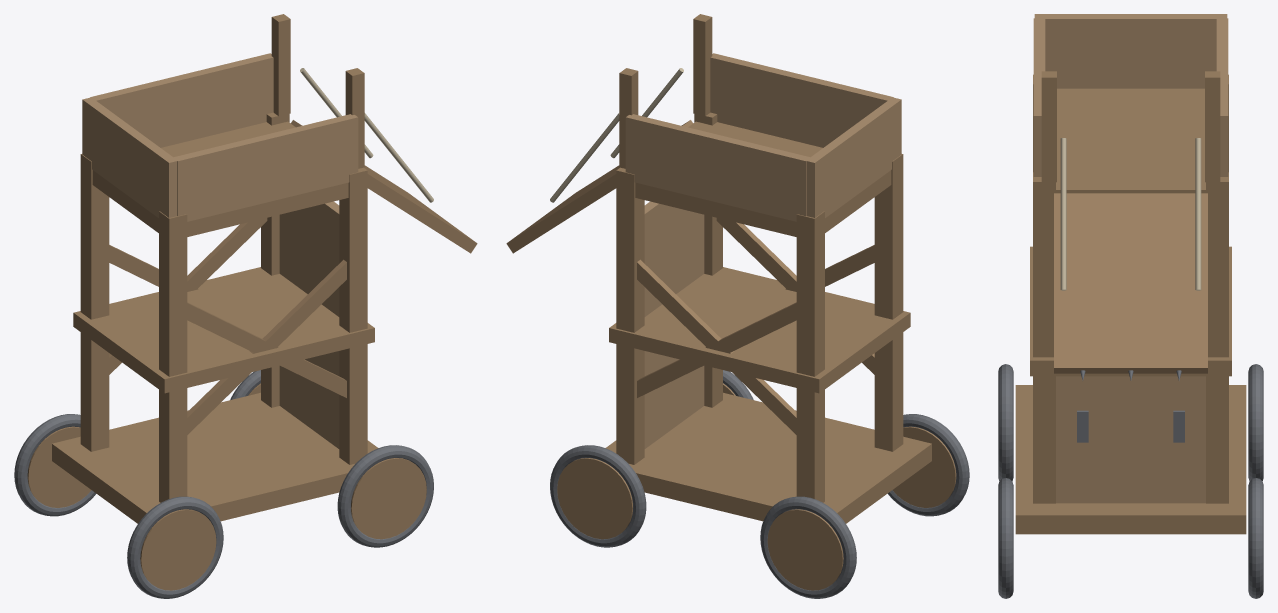
File: siege_tower.glb
3 renders of one model, left to right at view 1: azimuth 30°, elevation 25°; view 2: azimuth 150°, elevation 25°; view 3: azimuth 270°, elevation 25°, orthographic. The views are drawn at different scales.
Visible parts, largest first — view 1: Cube, Cube.009, Cube.019, Cube.020, Cube.010, Cube.001, Cube.003, Cube.002, Cube.018, Cube.017, Cylinder, Cylinder.002 (+13 smaller); view 2: Cube, Cube.009, Cube.020, Cube.019, Cube.010, Cube.003, Cube.001, Cube.004, Cube.018, Cube.017, Cylinder.001, Cylinder.003 (+13 smaller); view 3: Cube.021, Cube.010, Cube.017, Cube.018, Cube, Cube.002, Cube.004, Cube.009, Torus.002, Torus.003, Torus, Torus.001 (+8 smaller).
Part boxes in pixels (x1,y1,x2,y2): Cube: [52, 392, 378, 523]; Cube.009: [73, 267, 374, 393]; Cube.019: [174, 114, 358, 221]; Cube.020: [90, 53, 273, 147]; Cube.010: [279, 201, 339, 448]; Cube.001: [159, 211, 187, 502]; Cube.003: [80, 154, 109, 451]; Cube.002: [339, 167, 367, 464]; Cube.018: [82, 97, 177, 217]; Cube.017: [92, 121, 348, 236]; Cylinder: [140, 509, 216, 590]; Cylinder.002: [351, 458, 426, 539]; Cube: [605, 392, 931, 523]; Cube.009: [609, 267, 910, 393]; Cube.020: [625, 114, 809, 221]; Cube.019: [710, 53, 893, 147]; Cube.010: [644, 201, 704, 448]; Cube.003: [796, 211, 824, 502]; Cube.001: [874, 154, 903, 451]; Cube.004: [616, 167, 644, 464]; Cube.018: [806, 97, 901, 217]; Cube.017: [635, 121, 891, 236]; Cylinder.001: [767, 509, 843, 590]; Cylinder.003: [557, 458, 632, 539]; Cube.021: [1054, 193, 1207, 373]; Cube.010: [1056, 376, 1205, 503]; Cube.017: [1056, 88, 1205, 193]; Cube.018: [1034, 14, 1227, 88]; Cube: [1015, 385, 1246, 534]; Cube.002: [1033, 172, 1055, 503]; Cube.004: [1206, 172, 1228, 503]; Cube.009: [1030, 246, 1231, 376]; Torus.002: [998, 478, 1013, 598]; Torus.003: [1248, 478, 1263, 598]; Torus: [998, 364, 1013, 481]; Torus.001: [1248, 364, 1263, 481].
Size of the model in its own units: 4.98 by 5.88 by 2.76.
